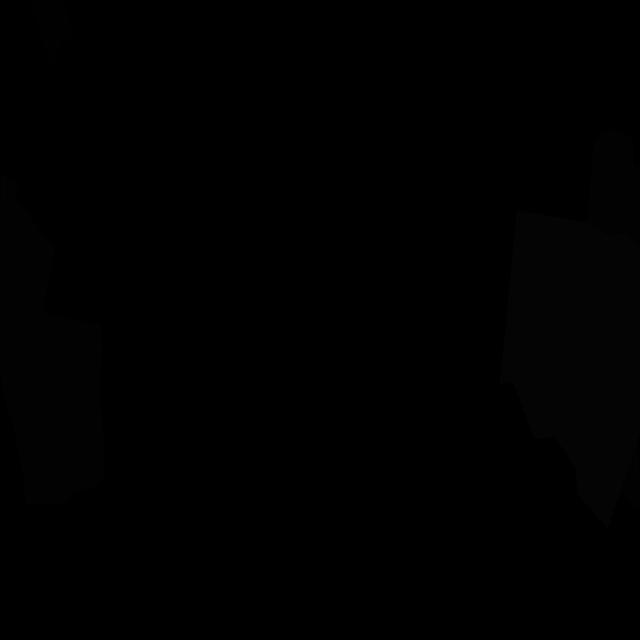cardboard: (0, 304, 104, 506), (0, 172, 55, 314), (587, 128, 640, 247), (620, 439, 640, 516)
rigid_plastic: (30, 0, 73, 68)
soft_plastic: (500, 210, 640, 529)
